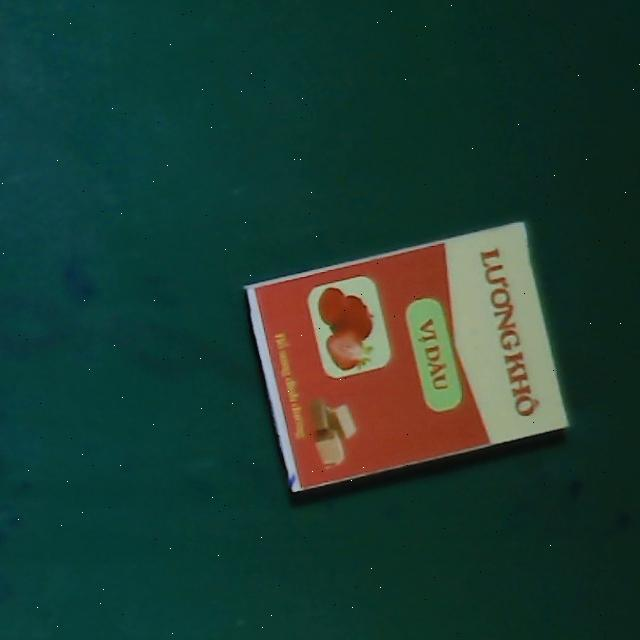dau: (242, 222, 569, 495)
